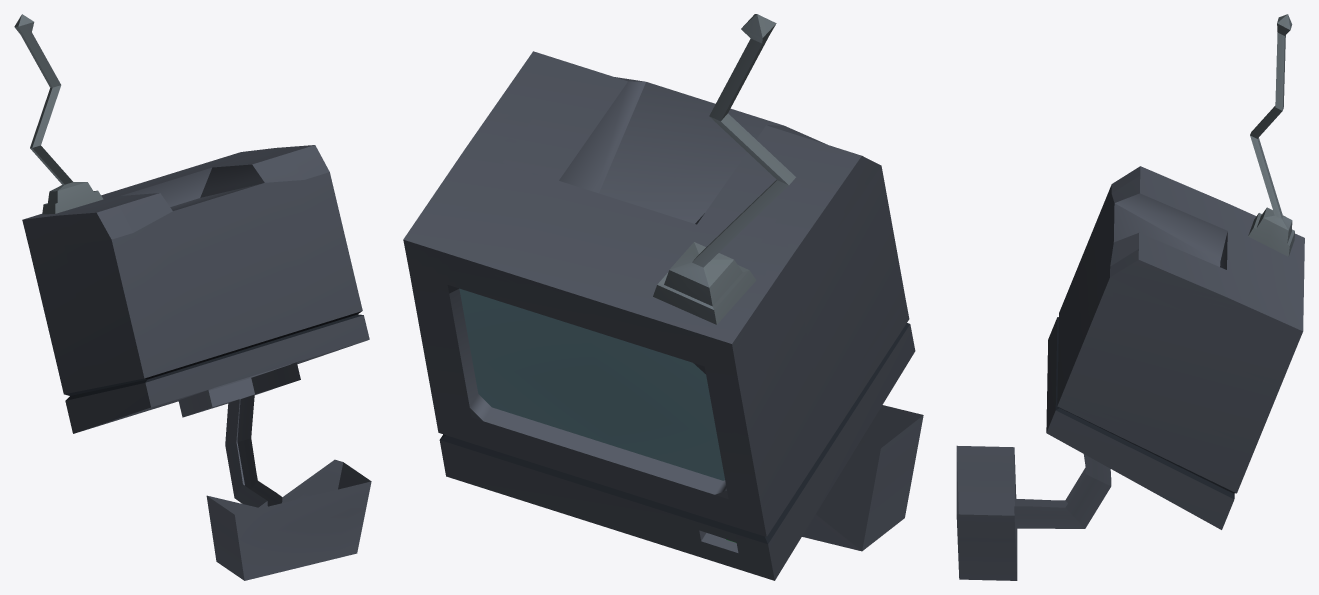
Rendered from g_o_CellTV.fbx.
3 renders of one model, left to right at view 1: azimuth 30°, elevation 25°; view 2: azimuth 150°, elevation 25°; view 3: azimuth 270°, elevation 25°, orthographic. The views are drawn at different scales.
Visible parts, largest first — view 1: CellTV; view 2: CellTV; view 3: CellTV.
Part boxes in pixels (x1,y1,x2,y2): CellTV: [14, 14, 371, 580]; CellTV: [403, 14, 923, 580]; CellTV: [956, 14, 1304, 580].
Bounding box in the file's own units: 40.98 × 74.32 × 49.04.
